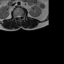CCS_normal: (18, 14, 19, 19)
LFS_normal: (21, 14, 22, 17)
LLS_normal: (20, 14, 21, 18)
RFS_normal: (15, 14, 17, 19)
RLS_normal: (17, 14, 18, 18)
